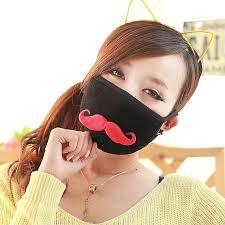OK: (81, 57, 182, 158)
